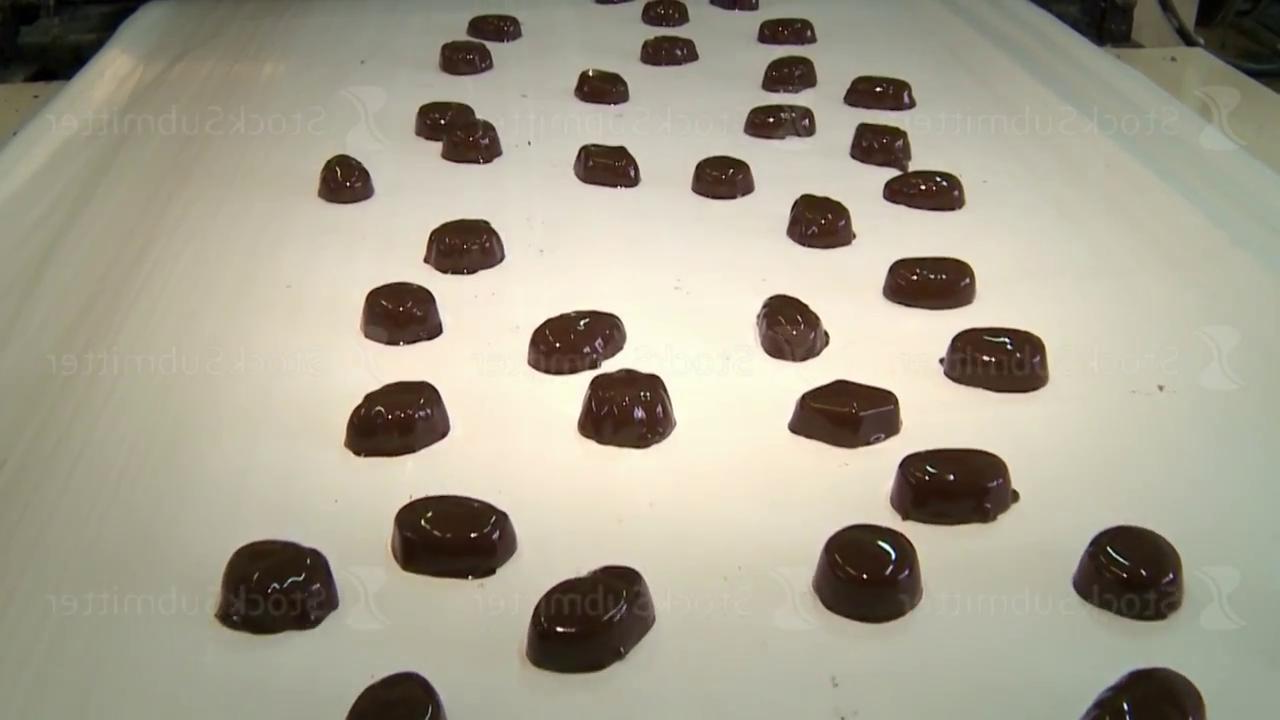chocolate: (526, 564, 656, 673), (215, 538, 339, 634), (813, 523, 923, 623), (391, 493, 518, 579), (1073, 523, 1184, 621), (890, 447, 1015, 525), (344, 379, 450, 457), (578, 368, 676, 448), (789, 378, 901, 448), (940, 326, 1049, 392), (1080, 666, 1207, 719), (528, 309, 627, 374), (361, 281, 443, 345), (756, 293, 830, 361), (345, 670, 447, 719), (883, 256, 976, 309), (424, 218, 505, 275), (787, 193, 856, 248), (884, 169, 966, 211), (574, 143, 641, 188), (851, 122, 912, 169), (692, 155, 755, 199), (442, 118, 502, 164), (318, 154, 374, 203), (744, 103, 816, 139), (844, 75, 916, 110), (415, 100, 475, 140), (762, 55, 817, 93), (575, 68, 629, 105), (440, 40, 493, 75), (640, 35, 699, 66), (758, 17, 817, 45), (467, 14, 523, 42), (642, 0, 690, 27)
